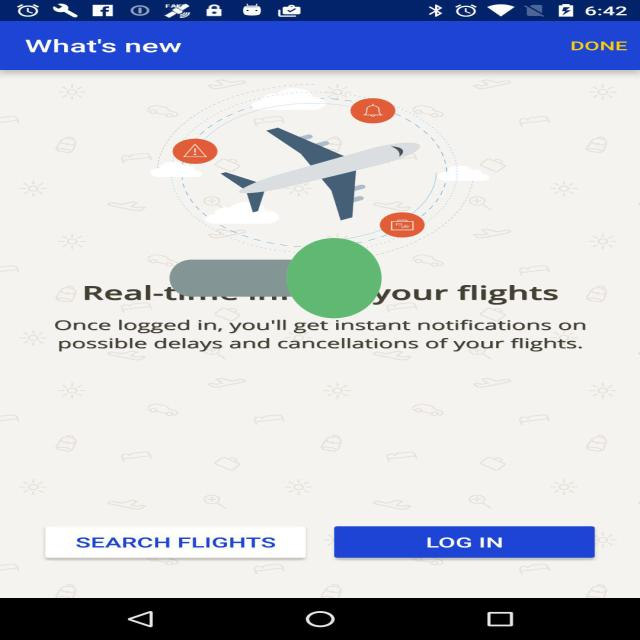social proof: (170, 188, 382, 368)
